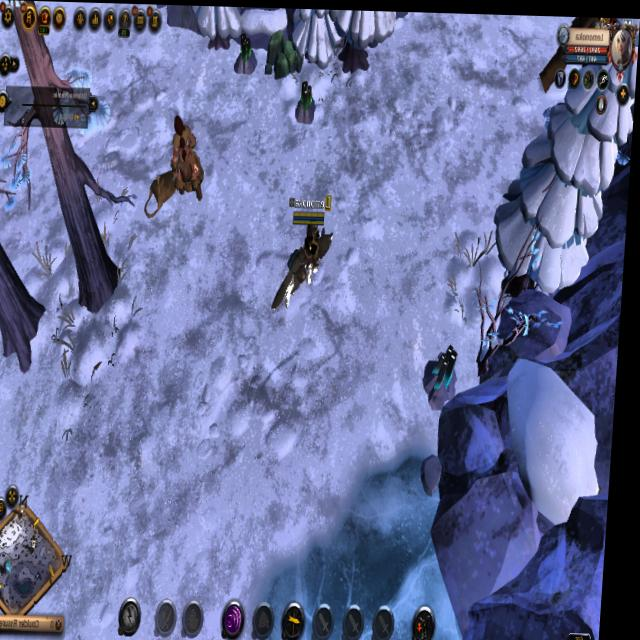ore tier 3: (233, 31, 261, 76), (295, 77, 321, 123)
ore tier 4: (425, 337, 464, 409)
rock tier 3: (263, 28, 308, 83)
